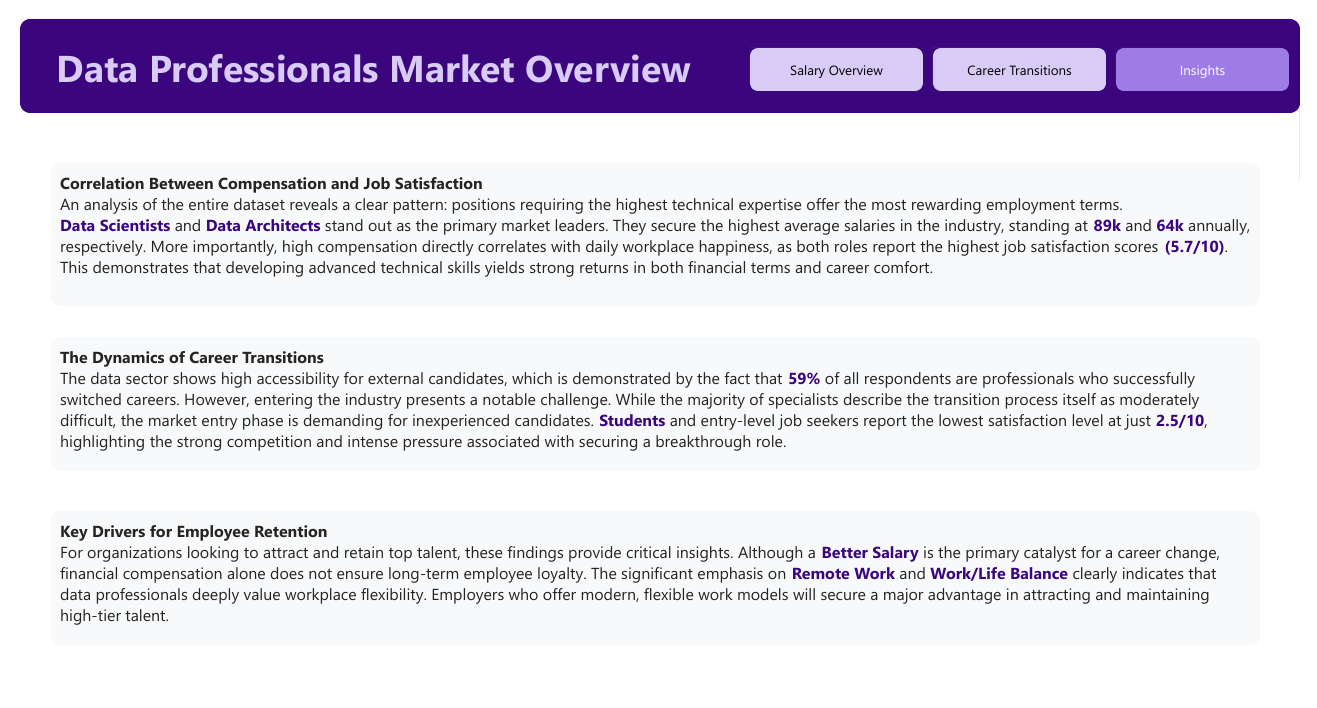

Layout of this report page (visuals, bound fields, positions):
{"tool":"powerbi","page":{"name":"Insights","canvas":[1280,720],"ordinal":2},"visuals":[{"type":"shape","box":[0,0,1280,94.4],"z":0},{"type":"textbox","box":[31,18,699,63],"z":1000},{"type":"pageNavigator","box":[730.3,28.7,538.5,43.1],"z":2000},{"type":"textbox","box":[31,144,1209,143],"z":2001},{"type":"textbox","box":[31,318,1209,134],"z":2002},{"type":"textbox","box":[31,492,1209,134],"z":2003}]}

Visuals, with their boxes on the page's 1280x720 design canvas (x1, y1, x2, y2). These are canvas units, not pixel positions in the 1317x708 screenshot, which may show the page scaled, cropped or inside an application window:
shape: detection(0, 0, 1280, 94)
textbox: detection(31, 18, 730, 81)
pageNavigator: detection(730, 29, 1269, 72)
textbox: detection(31, 144, 1240, 287)
textbox: detection(31, 318, 1240, 452)
textbox: detection(31, 492, 1240, 626)
